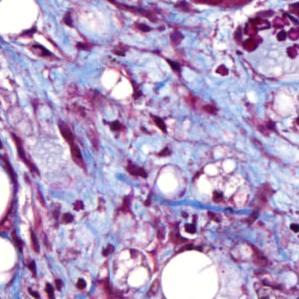steatosis: (156, 250, 222, 299)
